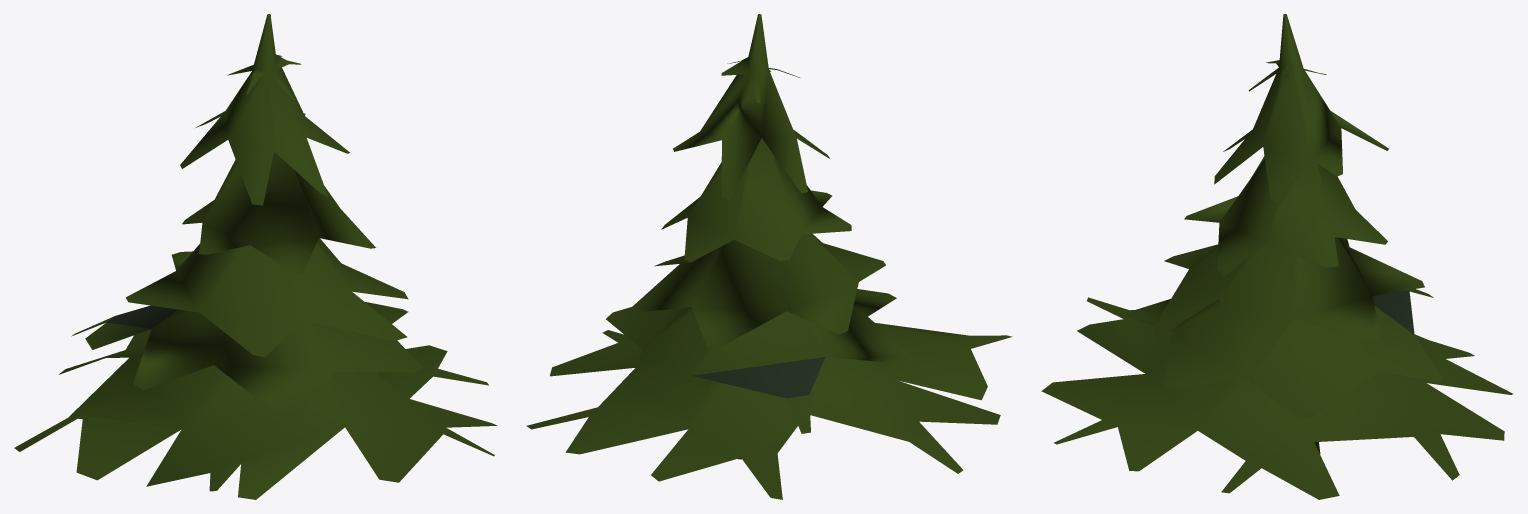
The model's file is Kuusi2Smooth.fbx.
The picture shows the model from 3 angles, left to right: view 1: azimuth 30°, elevation 25°; view 2: azimuth 150°, elevation 25°; view 3: azimuth 270°, elevation 25°; orthographic projection. The views are drawn at different scales.
Visible parts, largest first — view 1: Kuusi; view 2: Kuusi; view 3: Kuusi.
Boxes of the visible parts, box(x1,y1,x2,y2) form: Kuusi: box(14, 14, 497, 499); Kuusi: box(526, 14, 1012, 499); Kuusi: box(1041, 14, 1512, 499).
Size of the model in its own units: 913 by 911 by 892.
